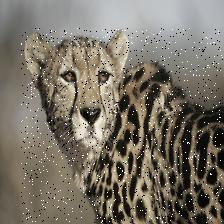Cheetha: (22, 29, 224, 224)
